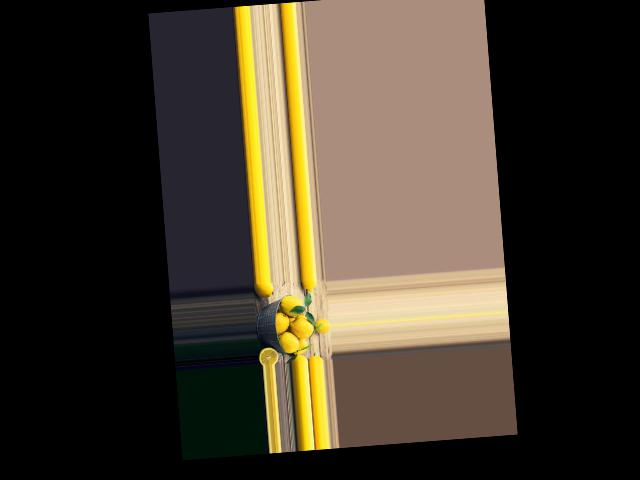lemon: (272, 328, 299, 354)
